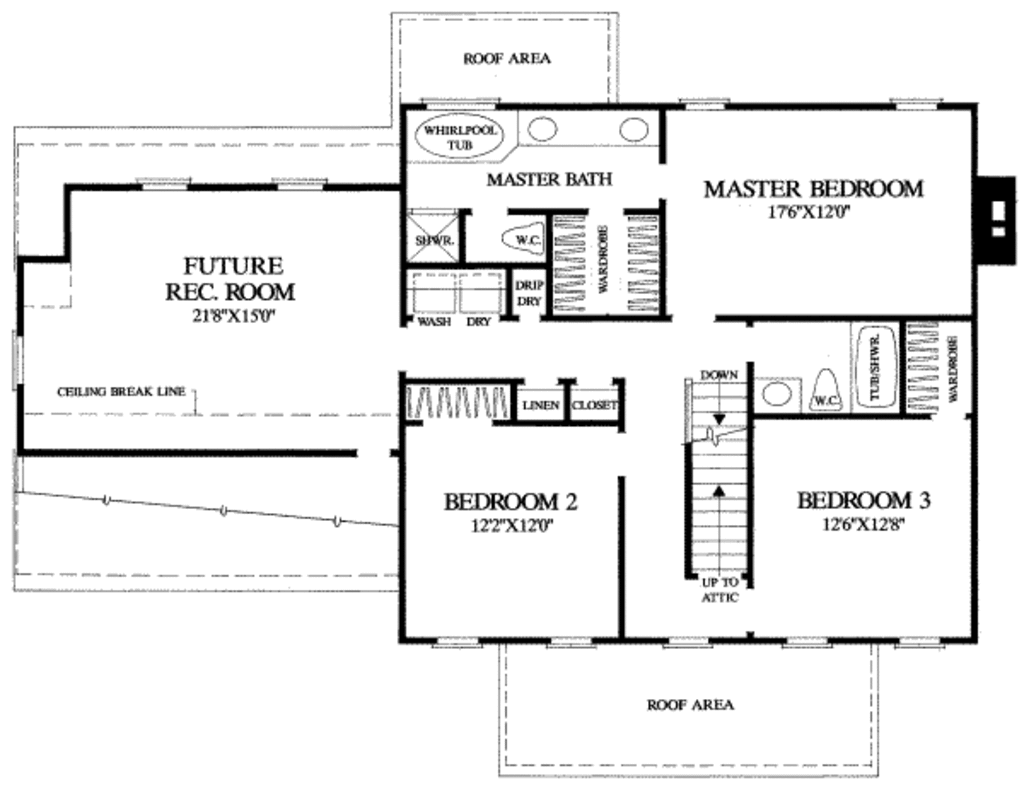large_sink: (499, 218, 547, 265), (802, 363, 845, 413)
small_sink: (517, 108, 659, 156), (755, 375, 804, 412)
stairs: (681, 364, 755, 607)
tub: (404, 110, 519, 165), (845, 320, 902, 414)
window: (421, 92, 503, 114), (886, 96, 950, 116), (8, 325, 26, 395), (889, 632, 945, 654), (131, 174, 192, 194), (678, 93, 731, 116), (270, 176, 331, 194), (783, 634, 835, 652), (660, 635, 718, 650), (430, 636, 486, 650), (542, 639, 597, 653)
